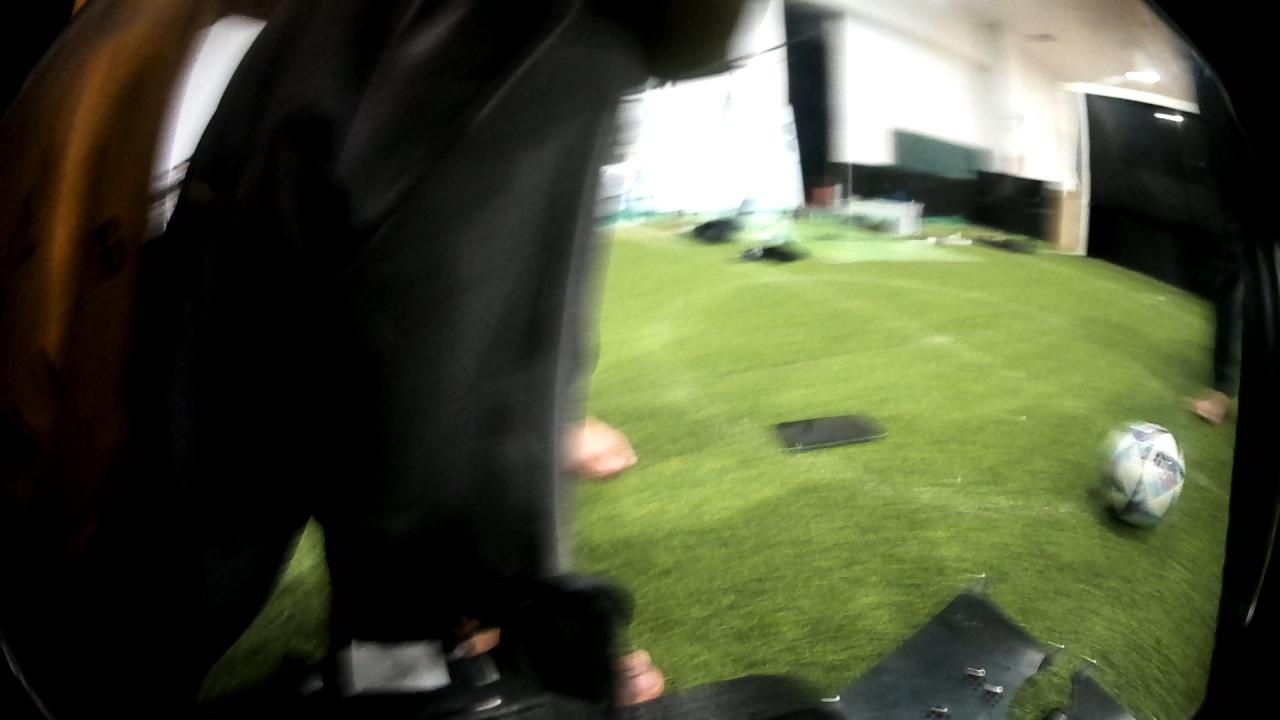ball: (1090, 413, 1190, 540)
